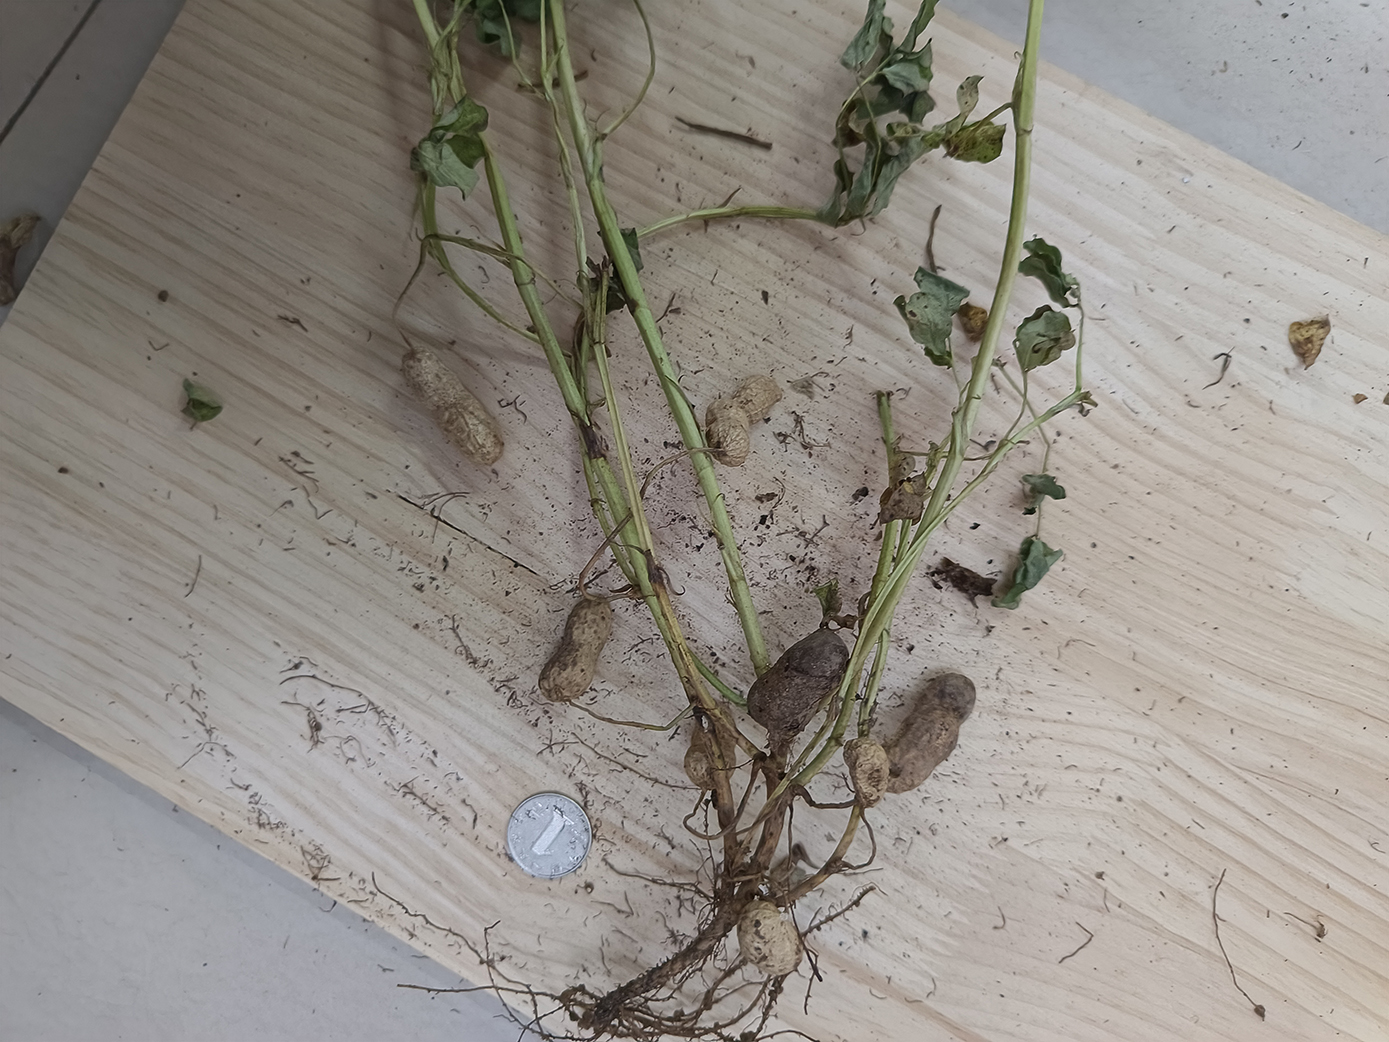h: (400, 345, 505, 468), (537, 597, 612, 702), (706, 375, 782, 464), (737, 900, 803, 977), (684, 697, 734, 787), (844, 736, 889, 800)
l: (745, 627, 850, 732), (889, 674, 976, 795)
